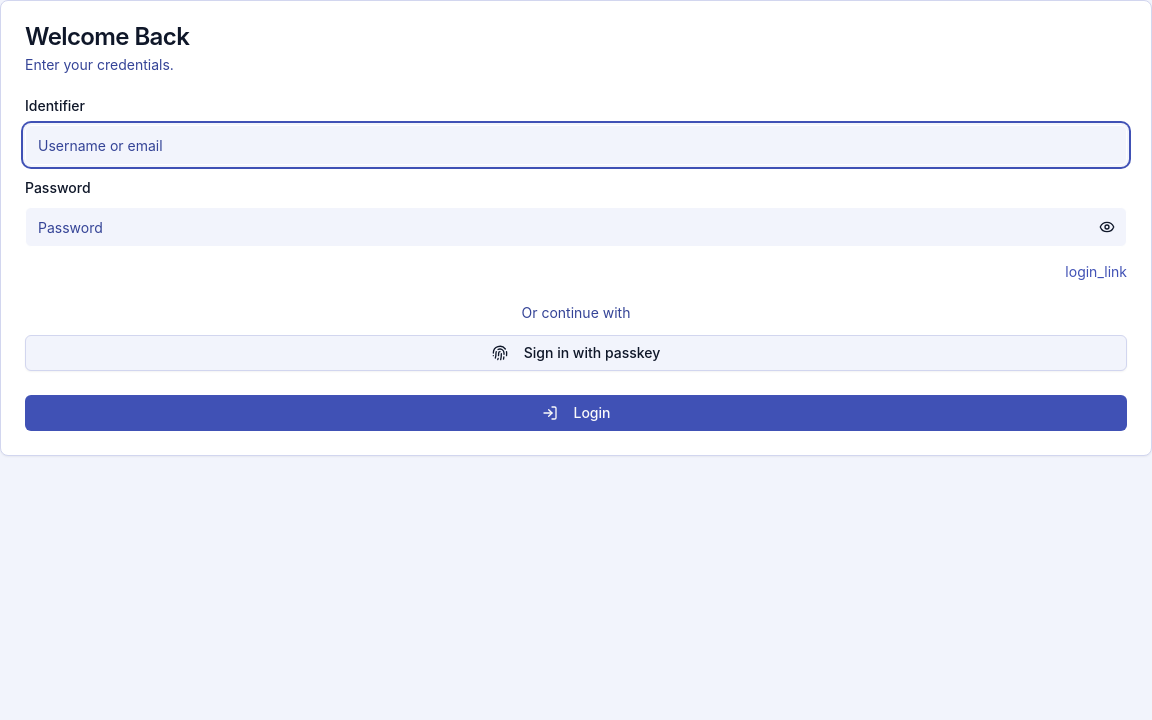
Test: LoginForm passkey and two-factor flows › shows a passkey error for a resolved error
This screenshot has width=1152, height=720.
What coordinates should you click on to do the following:
click the button "Sign in with passkey"
I would click on:
 (576, 353)
Its box is [25,335,1127,371].
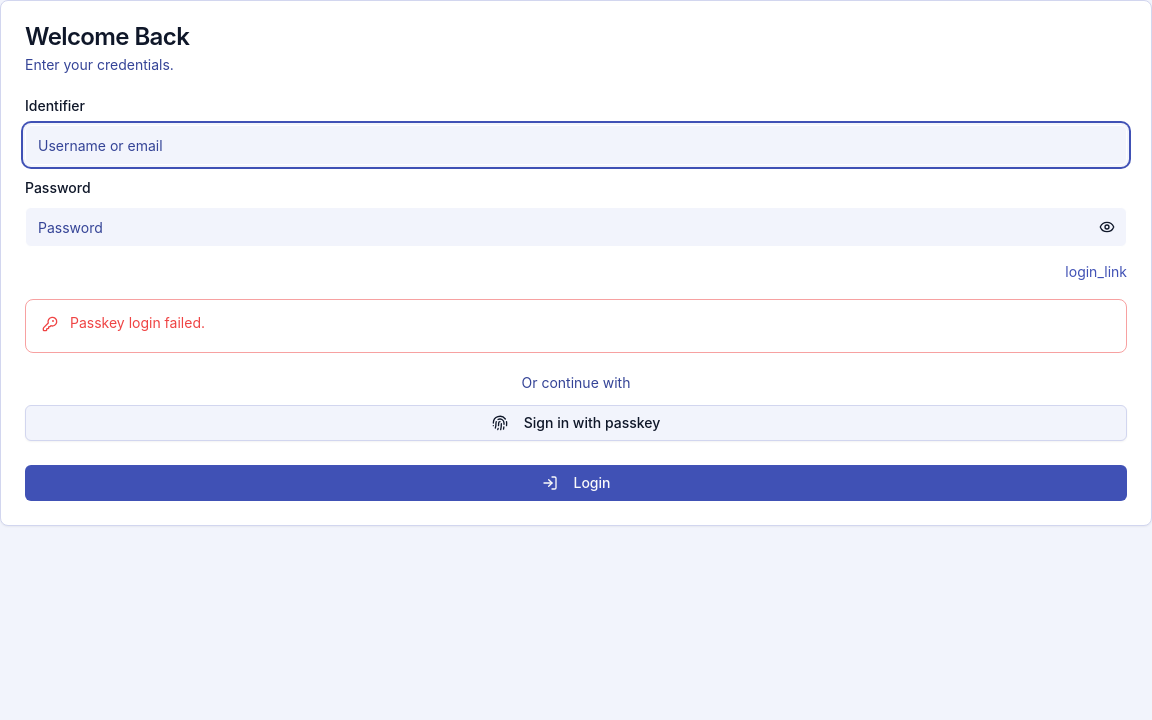
Check: the text "Passkey login failed." is shown, box [70,314,205,331]
